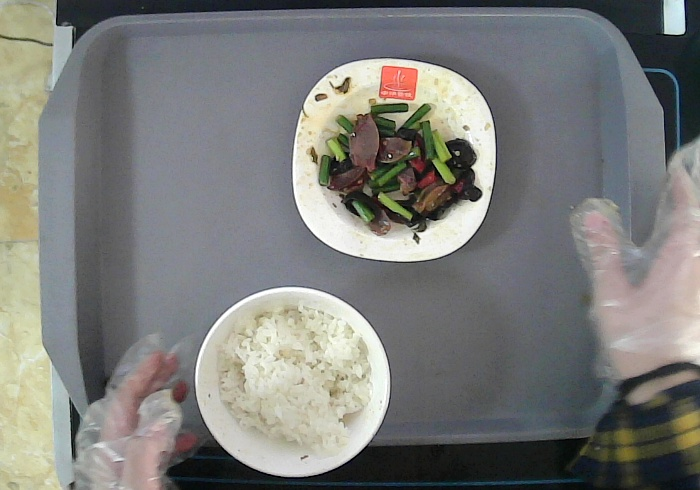SHKJ-Bai_Se_Si_Fang_Cai_Die: (292, 59, 499, 262)
SHKJ-Fan_Wan: (194, 285, 390, 478)
